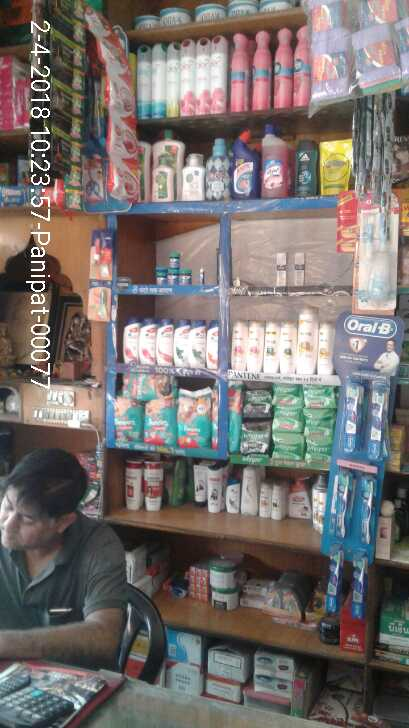oralcare: (320, 317, 396, 617)
vicks: (150, 249, 194, 284), (198, 265, 206, 286)
